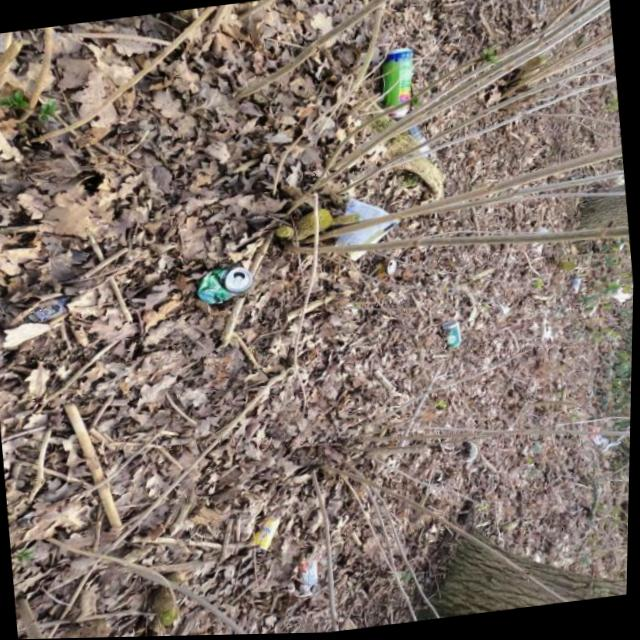Can-Metal: (377, 47, 420, 121), (195, 263, 257, 307), (440, 319, 464, 350), (382, 257, 399, 276), (570, 277, 584, 296)
